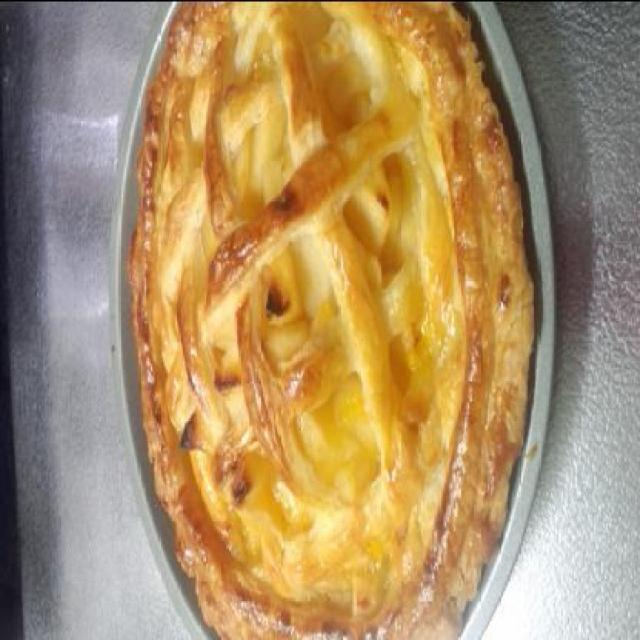Apple Pie: (134, 2, 516, 636)
